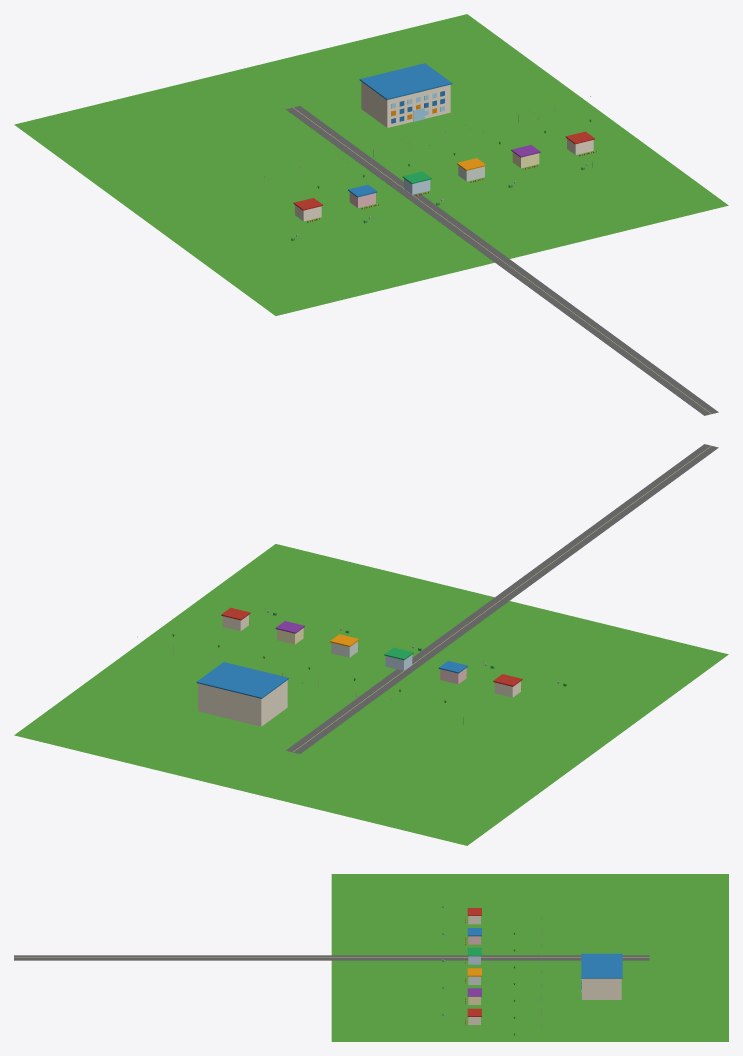
File: sector_r2_c1.glb
The picture shows the model from 3 angles, top to bottom: view 1: azimuth 30°, elevation 25°; view 2: azimuth 150°, elevation 25°; view 3: azimuth 270°, elevation 25°; orthographic projection. The views are drawn at different scales.
Parts seen in each view (by area): view 1: GROUND_r2_c1, ROAD_District_NS_5, BUILDING_DeptStore_Main, BUILDING_DeptStore_Roof; view 2: GROUND_r2_c1, ROAD_District_NS_5, BUILDING_DeptStore_Main, BUILDING_DeptStore_Roof; view 3: GROUND_r2_c1, ROAD_District_NS_5, BUILDING_DeptStore_Roof, BUILDING_DeptStore_Main, ROAD_District_NS_5_line.
Boxes of the visible parts, <box> form: GROUND_r2_c1: <box>14,14,728,315</box>; ROAD_District_NS_5: <box>286,106,718,415</box>; BUILDING_DeptStore_Main: <box>361,81,450,127</box>; BUILDING_DeptStore_Roof: <box>359,63,452,99</box>; GROUND_r2_c1: <box>14,544,728,845</box>; ROAD_District_NS_5: <box>286,444,718,753</box>; BUILDING_DeptStore_Main: <box>198,680,287,726</box>; BUILDING_DeptStore_Roof: <box>196,662,288,698</box>; GROUND_r2_c1: <box>331,874,728,1041</box>; ROAD_District_NS_5: <box>14,955,649,960</box>; BUILDING_DeptStore_Roof: <box>581,953,622,978</box>; BUILDING_DeptStore_Main: <box>582,978,621,999</box>; ROAD_District_NS_5_line: <box>14,957,649,957</box>.
Size of the model in its own units: 250 by 15.6 by 450.
